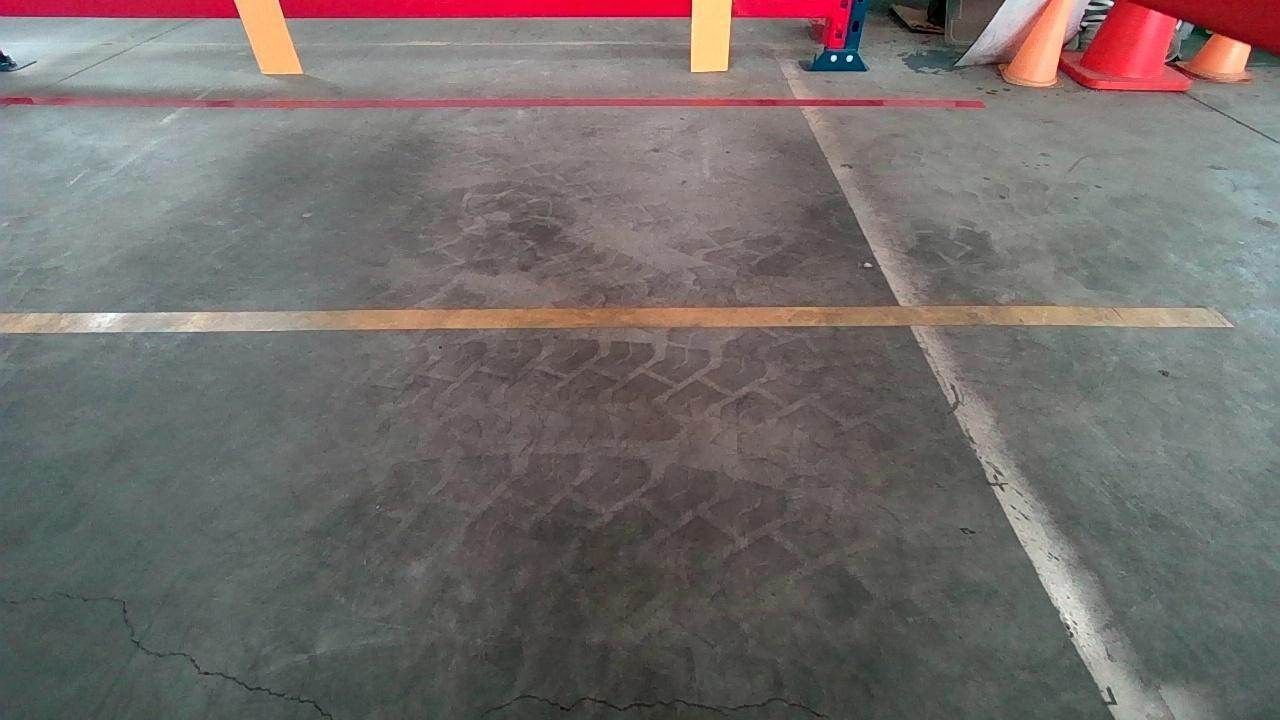orange_strip: (234, 0, 302, 70), (691, 0, 731, 68)
red_line: (0, 98, 981, 107)
yellow_line: (0, 307, 1228, 327)
